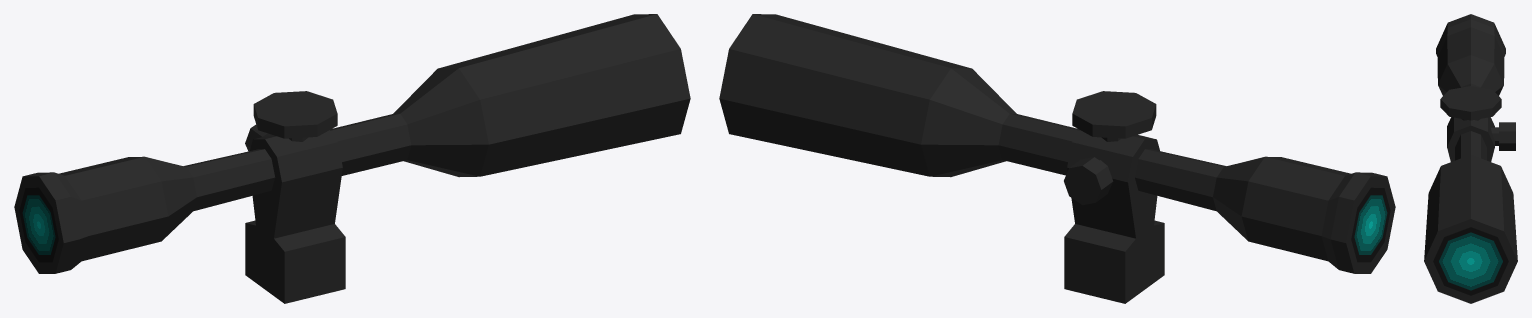
The model's file is Accessories_Sniper_Scope_D.FBX.
The picture shows the model from 3 angles, left to right: view 1: azimuth 30°, elevation 25°; view 2: azimuth 150°, elevation 25°; view 3: azimuth 270°, elevation 25°; orthographic projection. The views are drawn at different scales.
Visible parts, largest first — view 1: Accessories_Sniper_Scope_D; view 2: Accessories_Sniper_Scope_D; view 3: Accessories_Sniper_Scope_D.
Boxes of the visible parts, <box> form: Accessories_Sniper_Scope_D: <box>14,14,690,303</box>; Accessories_Sniper_Scope_D: <box>719,14,1395,303</box>; Accessories_Sniper_Scope_D: <box>1424,14,1517,303</box>.
Bounding box in the file's own units: 131 × 36.45 × 24.43.
